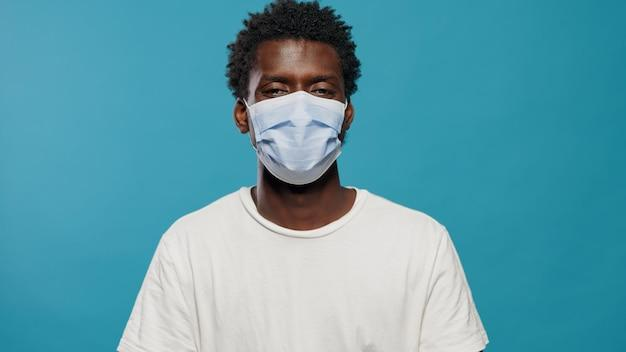mask: (246, 86, 345, 192)
